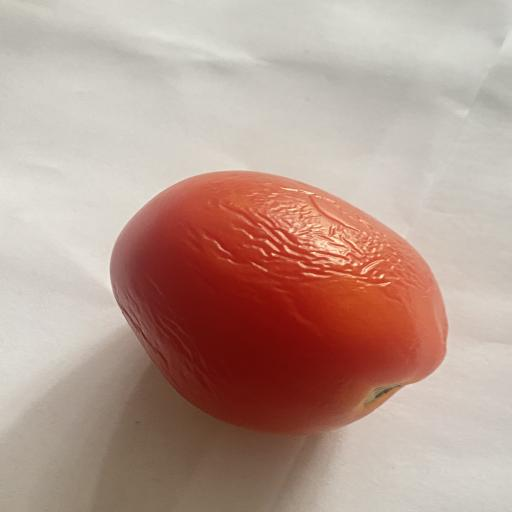spoiled: (110, 171, 447, 435)
